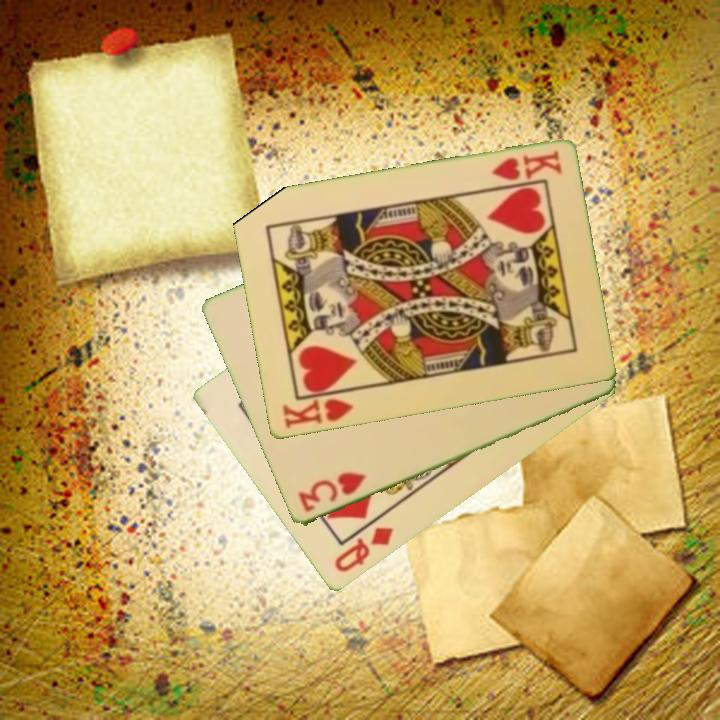3h: (294, 469, 369, 516)
Kh: (278, 387, 358, 433), (487, 147, 565, 184)
Qd: (330, 524, 397, 576)
